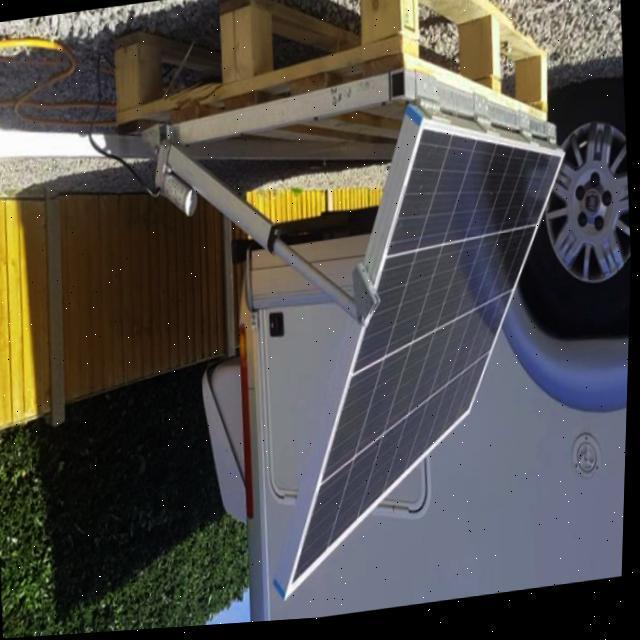Normal Solar Panel: (255, 104, 598, 599)
